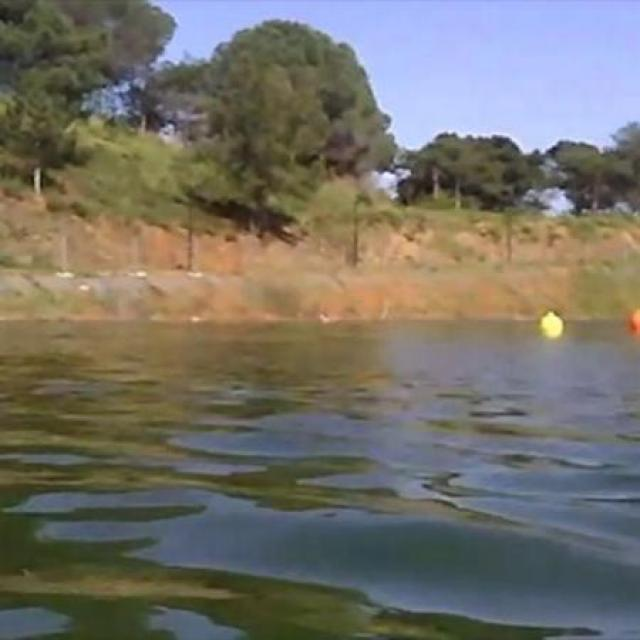buoy: (542, 313, 564, 337)
